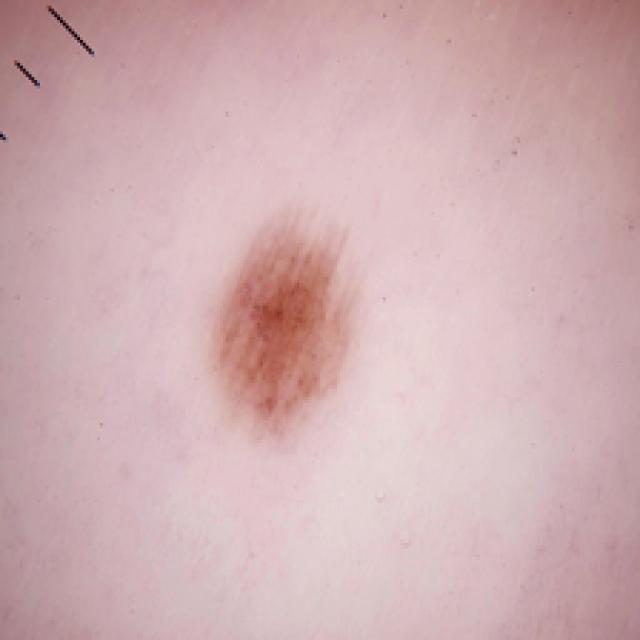non-cancer: (152, 205, 434, 431)
